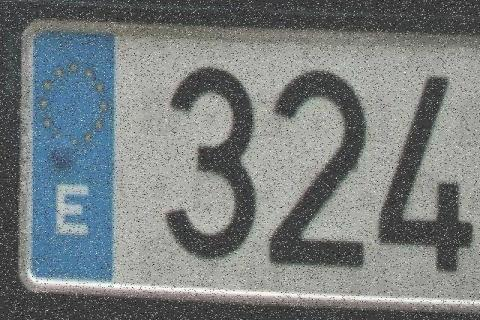LicensePlate: (11, 11, 478, 309)
